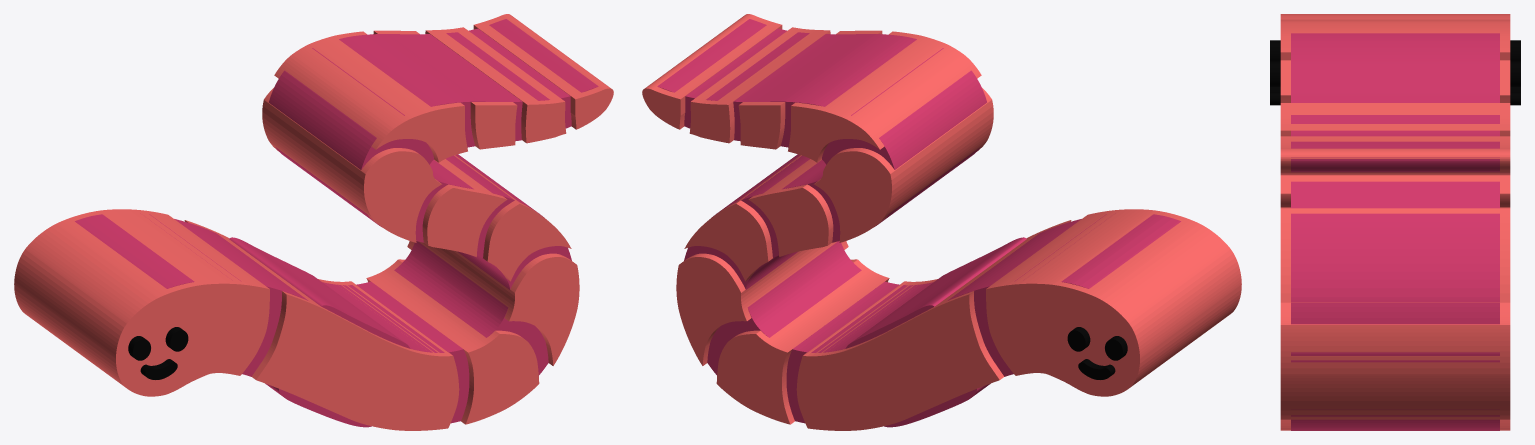
Rendered from U+1FAB1.obj.
3 views of the same model, side by side, from view 1: azimuth 30°, elevation 25°; view 2: azimuth 150°, elevation 25°; view 3: azimuth 270°, elevation 25° (orthographic). The views are drawn at different scales.
Parts seen in each view (by area): view 1: U+1FAB1_layer00_obj00, U+1FAB1_layer01_obj07, U+1FAB1_layer01_obj10, U+1FAB1_layer01_obj02, U+1FAB1_layer01_obj01, U+1FAB1_layer01_obj06, U+1FAB1_layer01_obj09, U+1FAB1_layer01_obj03, U+1FAB1_layer01_obj00, U+1FAB1_layer01_obj04, U+1FAB1_layer00_obj01, U+1FAB1_layer01_obj08 (+1 smaller); view 2: U+1FAB1_layer00_obj00, U+1FAB1_layer01_obj07, U+1FAB1_layer01_obj10, U+1FAB1_layer01_obj02, U+1FAB1_layer01_obj01, U+1FAB1_layer01_obj06, U+1FAB1_layer01_obj09, U+1FAB1_layer01_obj03, U+1FAB1_layer01_obj00, U+1FAB1_layer01_obj04, U+1FAB1_layer00_obj01, U+1FAB1_layer01_obj08 (+1 smaller); view 3: U+1FAB1_layer00_obj00, U+1FAB1_layer01_obj09, U+1FAB1_layer01_obj08, U+1FAB1_layer01_obj00, U+1FAB1_layer01_obj02, U+1FAB1_layer01_obj04, U+1FAB1_layer01_obj03, U+1FAB1_layer01_obj07, U+1FAB1_layer01_obj05, U+1FAB1_layer02_obj01, U+1FAB1_layer02_obj00, U+1FAB1_layer02_obj02 (+1 smaller).
Part boxes in pixels (x1,y1,x2,y2): U+1FAB1_layer00_obj00: [75, 19, 598, 423]; U+1FAB1_layer01_obj07: [14, 209, 269, 396]; U+1FAB1_layer01_obj10: [184, 220, 459, 430]; U+1FAB1_layer01_obj02: [274, 31, 467, 162]; U+1FAB1_layer01_obj01: [262, 88, 441, 242]; U+1FAB1_layer01_obj06: [366, 259, 539, 424]; U+1FAB1_layer01_obj09: [407, 241, 579, 365]; U+1FAB1_layer01_obj03: [422, 159, 507, 256]; U+1FAB1_layer01_obj00: [425, 27, 566, 143]; U+1FAB1_layer01_obj04: [454, 155, 571, 281]; U+1FAB1_layer00_obj01: [229, 237, 410, 427]; U+1FAB1_layer01_obj08: [473, 14, 613, 129]; U+1FAB1_layer00_obj00: [657, 19, 1180, 423]; U+1FAB1_layer01_obj07: [986, 209, 1241, 396]; U+1FAB1_layer01_obj10: [796, 220, 1071, 430]; U+1FAB1_layer01_obj02: [788, 31, 981, 162]; U+1FAB1_layer01_obj01: [814, 88, 993, 242]; U+1FAB1_layer01_obj06: [716, 259, 889, 424]; U+1FAB1_layer01_obj09: [676, 241, 848, 365]; U+1FAB1_layer01_obj03: [748, 159, 833, 256]; U+1FAB1_layer01_obj00: [689, 27, 830, 143]; U+1FAB1_layer01_obj04: [684, 155, 801, 281]; U+1FAB1_layer00_obj01: [845, 237, 1026, 427]; U+1FAB1_layer01_obj08: [642, 14, 782, 129]; U+1FAB1_layer00_obj00: [1291, 33, 1499, 430]; U+1FAB1_layer01_obj09: [1280, 302, 1510, 419]; U+1FAB1_layer01_obj08: [1280, 136, 1510, 175]; U+1FAB1_layer01_obj00: [1280, 103, 1510, 136]; U+1FAB1_layer01_obj02: [1280, 19, 1510, 60]; U+1FAB1_layer01_obj04: [1280, 207, 1510, 302]; U+1FAB1_layer01_obj03: [1280, 175, 1510, 207]; U+1FAB1_layer01_obj07: [1280, 14, 1510, 19]; U+1FAB1_layer01_obj05: [1280, 60, 1510, 102]; U+1FAB1_layer02_obj01: [1270, 61, 1520, 86]; U+1FAB1_layer02_obj00: [1270, 40, 1520, 61]; U+1FAB1_layer02_obj02: [1270, 87, 1520, 105].
Bounding box in the file's own units: 0.3107 × 0.1918 × 0.12.
